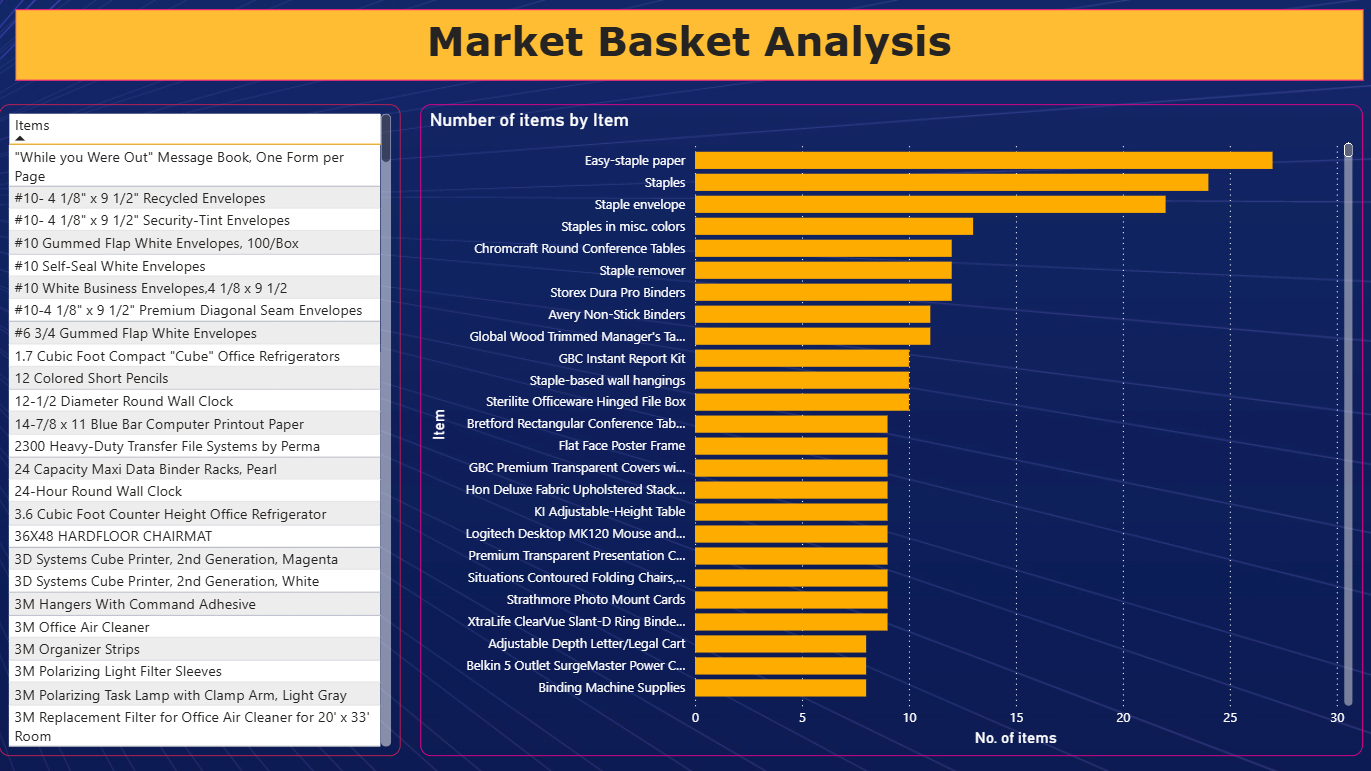

This screenshot's page, from the dashboard's own definition file:
{"tool":"powerbi","page":{"name":"Page 2","canvas":[1280,720],"ordinal":1},"visuals":[{"type":"textbox","box":[14.9,10,1254.1,66],"z":0},{"type":"tableEx","fields":{"Values":["SuperStore_Sales_Dataset.Product Name"]},"box":[0,98.4,373.6,606.5],"z":1000},{"type":"barChart","title":"Number of items by Item","fields":{"Category":["SuperStore_Sales_Datasetx.Product Name"],"Y":["CountNonNull(SuperStore_Sales_Datasetx.Product Name)"]},"box":[392.3,98.4,876.7,606.5],"z":2000}]}

Visuals, with their boxes in screenshot pixels (x1, y1, x2, y2), scaled from the page's 1280x720 canvas onto the 1371x771 screenshot:
textbox: x1=16, y1=11, x2=1359, y2=81
tableEx - SuperStore_Sales_Dataset.Product Name: x1=0, y1=105, x2=400, y2=755
"Number of items by Item" barChart: x1=420, y1=105, x2=1359, y2=755
